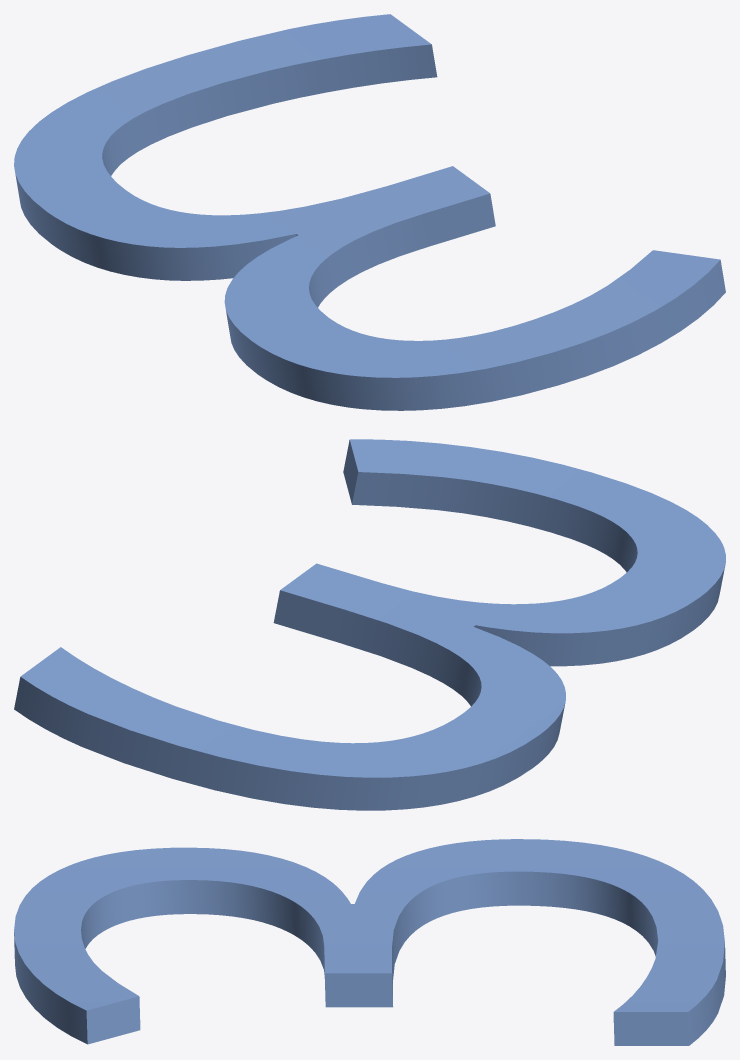
Rendered from New_Number_3.gltf.
3 renders of one model, top to bottom at view 1: azimuth 30°, elevation 25°; view 2: azimuth 150°, elevation 25°; view 3: azimuth 270°, elevation 25°, orthographic. The views are drawn at different scales.
Visible parts, largest first — view 1: Part 282; view 2: Part 282; view 3: Part 282.
Part boxes in pixels (x1=…): Part 282: x1=14, y1=14, x2=725, y2=410; Part 282: x1=14, y1=439, x2=725, y2=810; Part 282: x1=14, y1=839, x2=725, y2=1045.
Bounding box in the file's own units: 0.00337 × 0.000411 × 0.00519.
